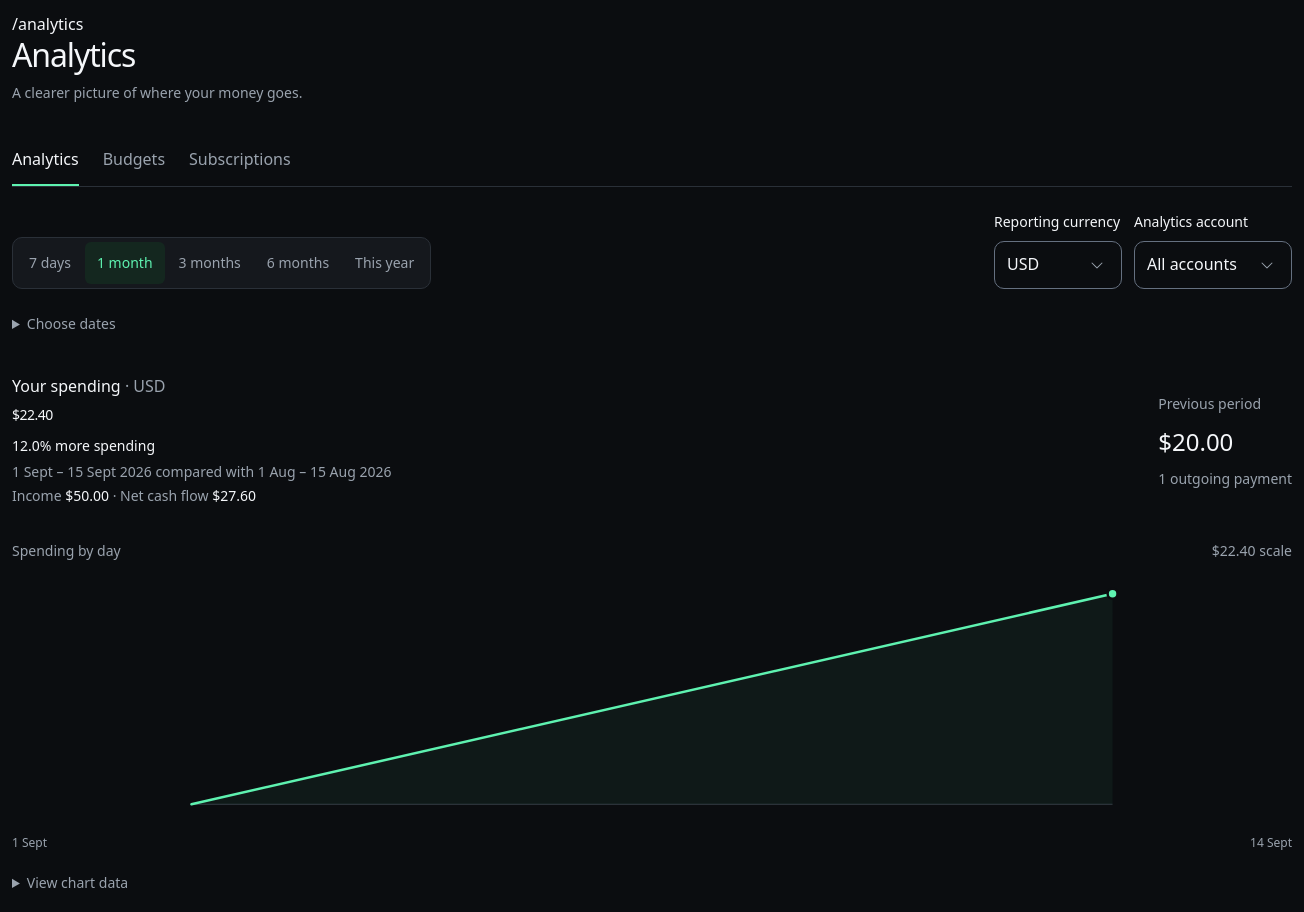
Test: period and currency changes request one consistent report without a page reload
Expected: the text "12.0% more spending" is shown, x1=12 y1=436 x2=155 y2=455
Click the button "7 days": (50, 263) x1=17 y1=242 x2=83 y2=284
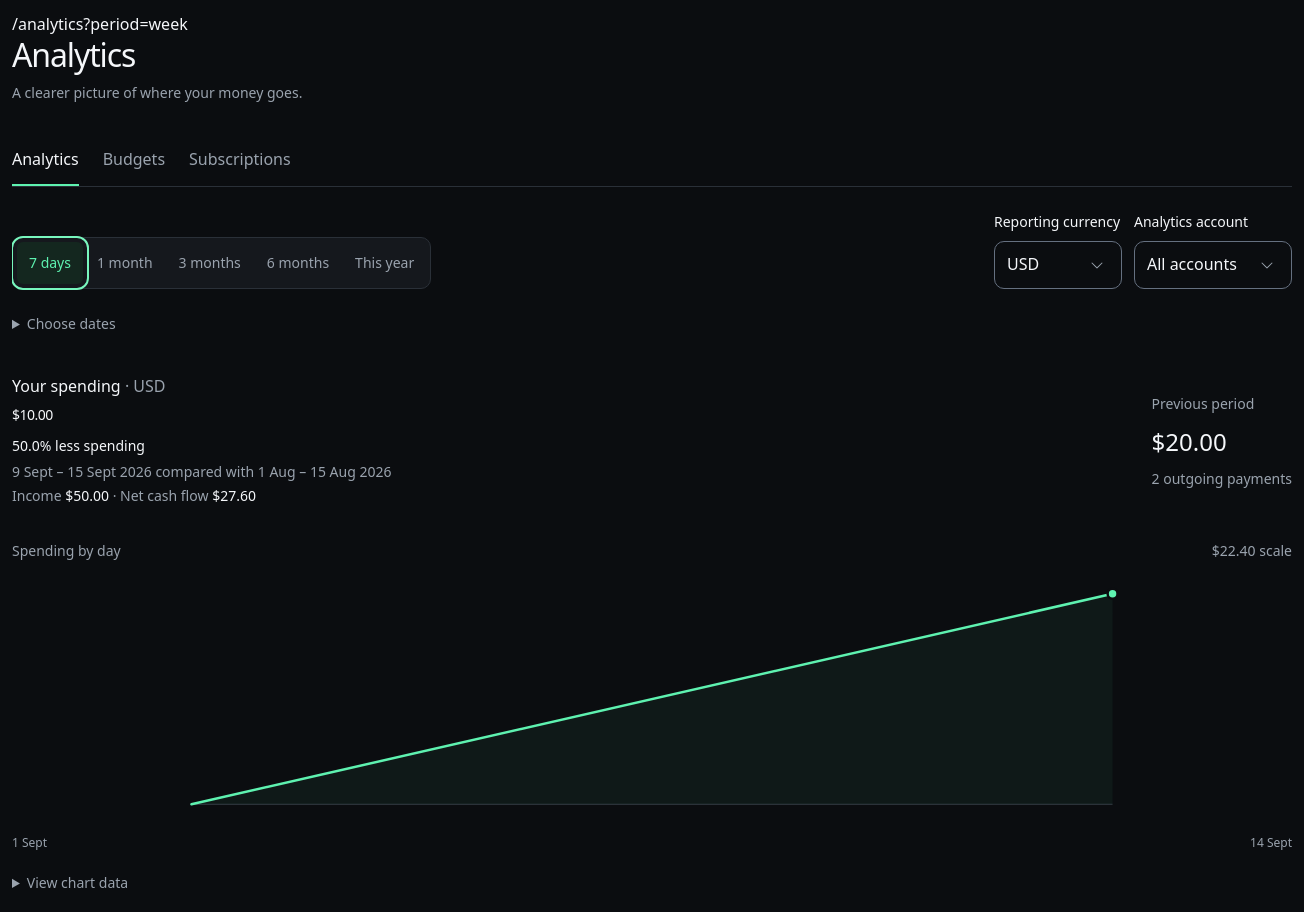
Now the text "50.0% less spending" is shown, box x1=12 y1=436 x2=145 y2=455
Select "EUR" in the dropdown labelled "Reporting currency": (1058, 265) x1=995 y1=242 x2=1121 y2=288
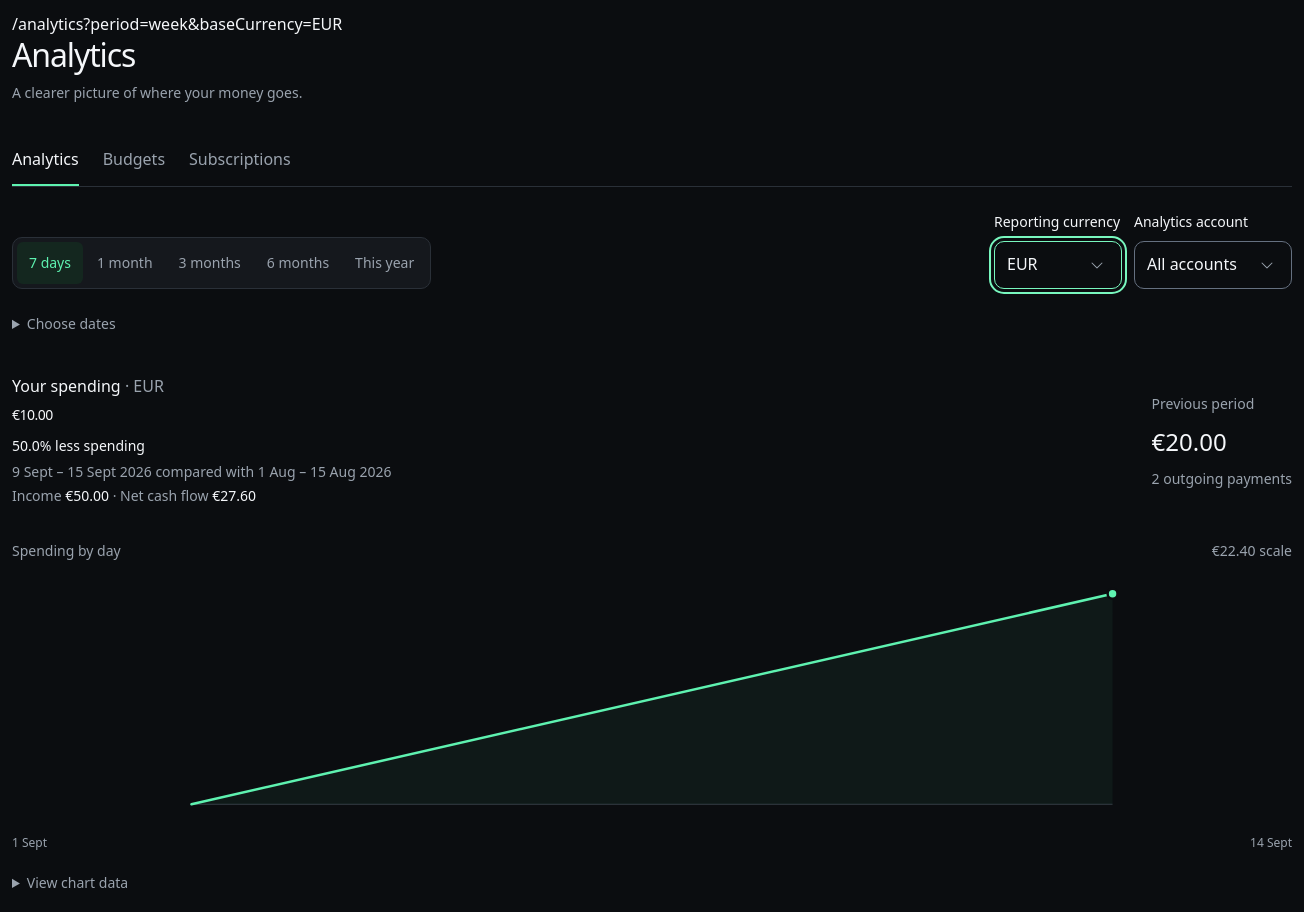
Now the text with test id "location" shows "period=week&baseCurrency=EUR", box x1=12 y1=13 x2=342 y2=35
